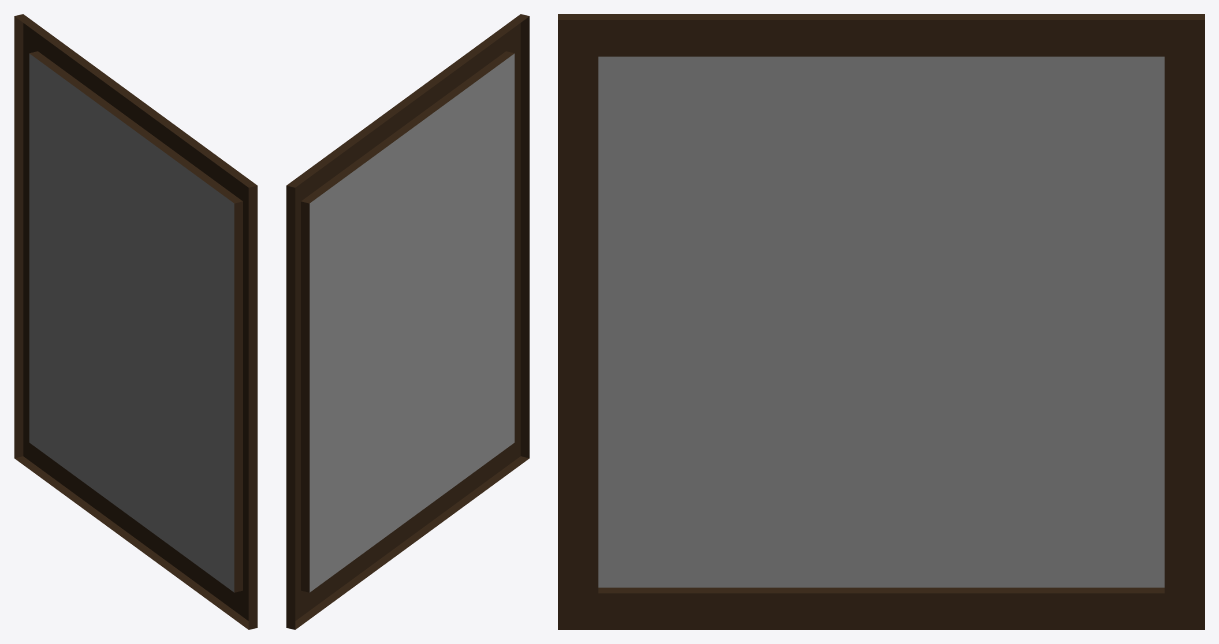
File: PictureFrame_1.FBX
3 renders of one model, left to right at view 1: azimuth 30°, elevation 25°; view 2: azimuth 150°, elevation 25°; view 3: azimuth 270°, elevation 25°, orthographic. The views are drawn at different scales.
Parts seen in each view (by area): view 1: Box004; view 2: Box004; view 3: Box004.
Boxes of the visible parts, x1,y1,x2,y2 form: Box004: (14,14,257,629); Box004: (286,14,529,629); Box004: (558,14,1204,629).
Bounding box in the file's own units: 0.5061 × 23.91 × 22.98.
